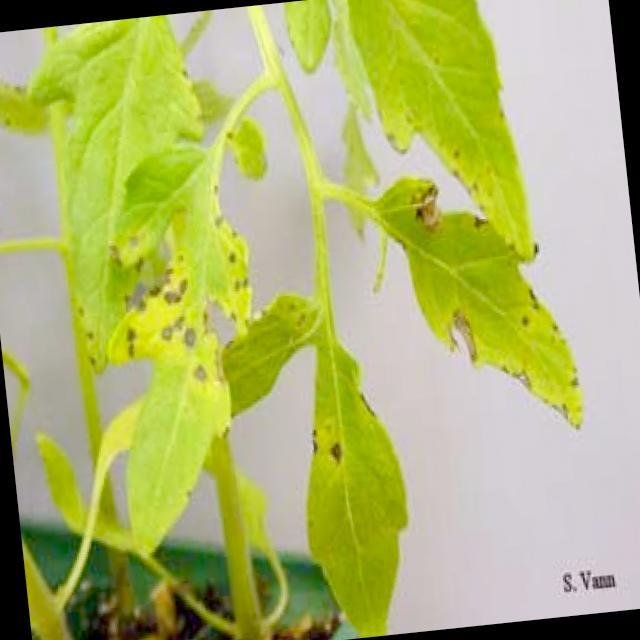Tomato bacterial spot leaf: (79, 130, 294, 564), (341, 143, 596, 454), (282, 304, 422, 640)
